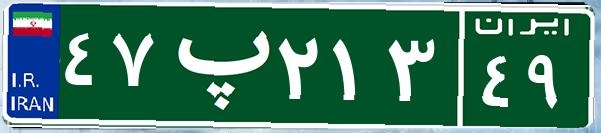1: (330, 28, 385, 110)
2: (273, 28, 330, 110)
3: (385, 28, 445, 110)
4: (57, 26, 110, 107), (475, 38, 525, 113)
7: (110, 28, 158, 105)
9: (525, 38, 570, 115)
پ: (158, 15, 273, 115)
